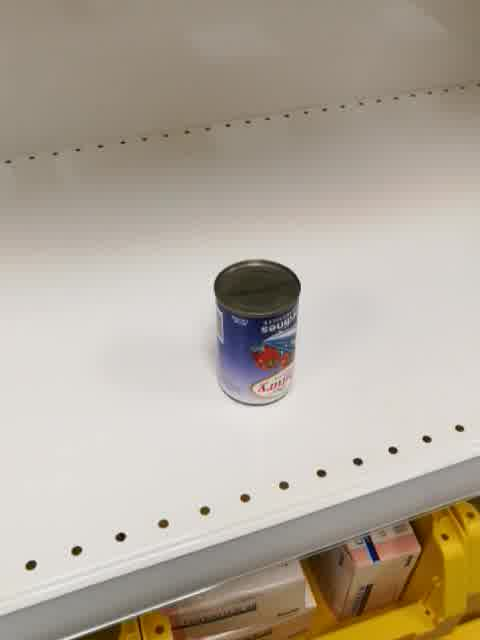sardine: (212, 259, 303, 408)
